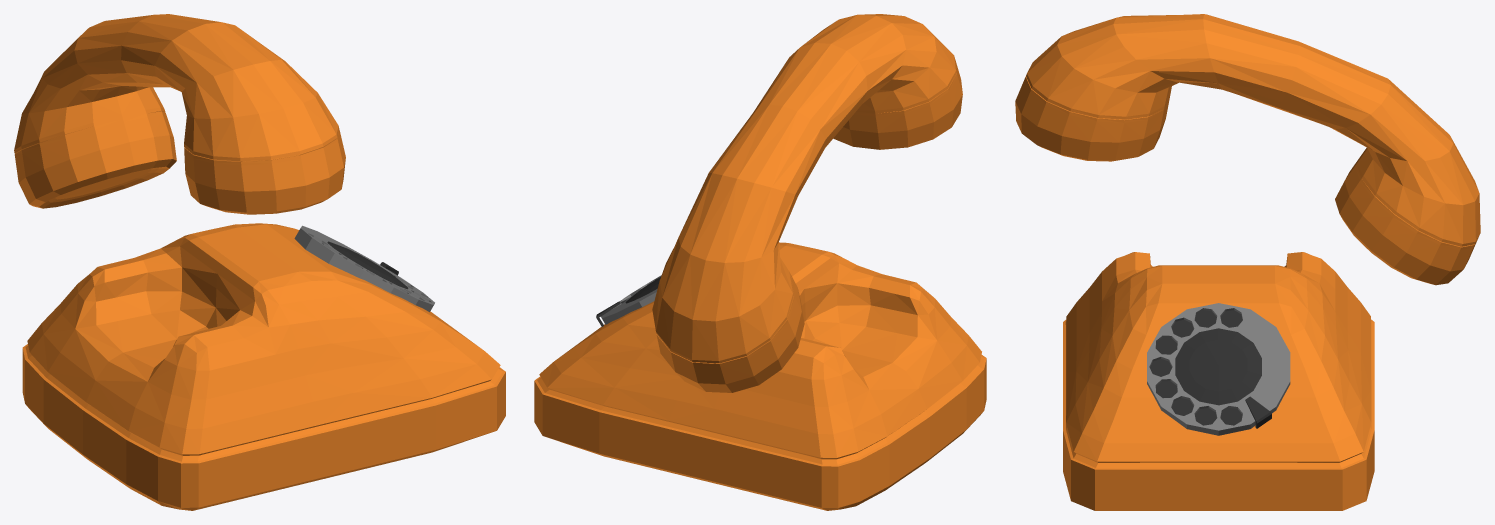
Rendered from phoneup.glb.
3 renders of one model, left to right at view 1: azimuth 30°, elevation 25°; view 2: azimuth 150°, elevation 25°; view 3: azimuth 270°, elevation 25°, orthographic. The views are drawn at different scales.
Visible parts, largest first — view 1: Phone.004, Phone.005, Phone.001, Phone.002; view 2: Phone.004, Phone.005, Phone.001; view 3: Phone.004, Phone.005, Phone.001, Phone.002, Phone.
Boxes of the visible parts, x1=… form: Phone.004: x1=22, y1=223, x2=505, y2=510; Phone.005: x1=14, y1=14, x2=345, y2=214; Phone.001: x1=294, y1=225, x2=434, y2=311; Phone.002: x1=327, y1=241, x2=408, y2=289; Phone.004: x1=534, y1=242, x2=986, y2=510; Phone.005: x1=652, y1=14, x2=962, y2=392; Phone.001: x1=601, y1=275, x2=661, y2=324; Phone.004: x1=1063, y1=252, x2=1374, y2=510; Phone.005: x1=1015, y1=14, x2=1480, y2=285; Phone.001: x1=1147, y1=303, x2=1290, y2=435; Phone.002: x1=1175, y1=328, x2=1261, y2=405; Phone: x1=1150, y1=310, x2=1242, y2=425.
Bounding box in the file's own units: 69.22 × 77.29 × 83.86.
Materials: 1 (1 with a texture image).
